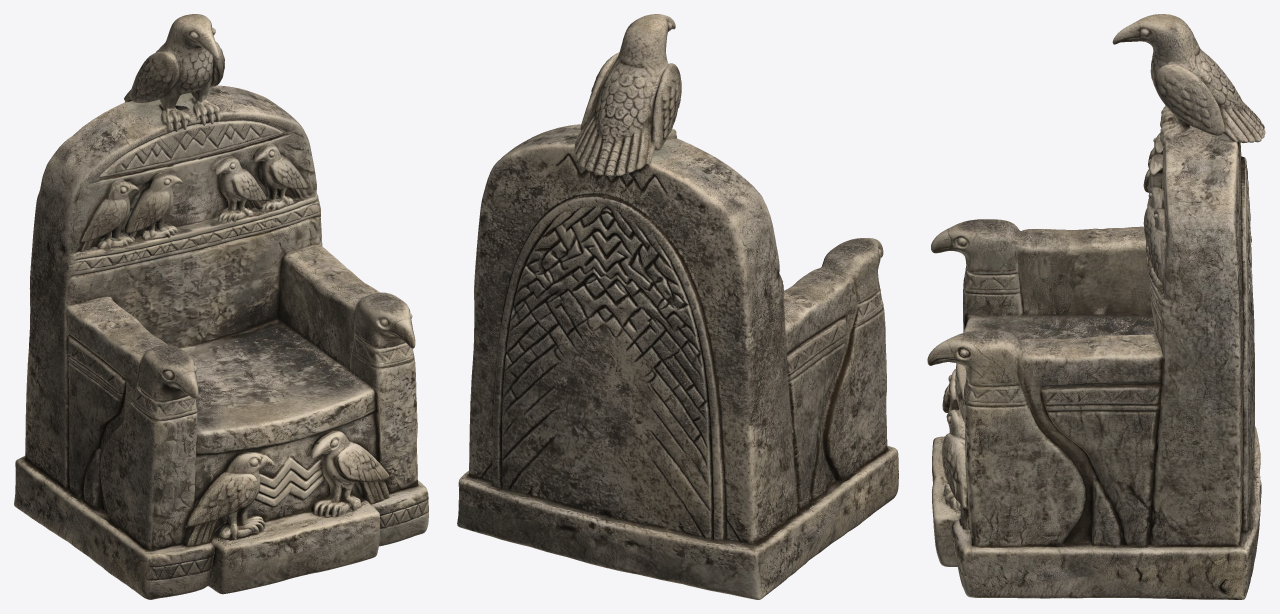
The model's file is throne.glb.
The picture shows the model from 3 angles, left to right: view 1: azimuth 30°, elevation 25°; view 2: azimuth 150°, elevation 25°; view 3: azimuth 270°, elevation 25°; orthographic projection. The views are drawn at different scales.
Visible parts, largest first — view 1: Object_5, Object_6, Object_9, Object_7, Object_10, Object_8; view 2: Object_8, Object_7, Object_6, Object_9, Object_10, Object_5; view 3: Object_6, Object_7, Object_9, Object_5, Object_8, Object_10.
Boxes of the visible parts, bbox=[...] form: Object_5: bbox=[111, 303, 428, 599]; Object_6: bbox=[49, 30, 428, 599]; Object_9: bbox=[29, 14, 348, 541]; Object_7: bbox=[15, 19, 325, 534]; Object_10: bbox=[54, 19, 321, 507]; Object_8: bbox=[14, 93, 322, 514]; Object_8: bbox=[457, 125, 792, 599]; Object_7: bbox=[457, 14, 821, 599]; Object_6: bbox=[505, 16, 898, 566]; Object_9: bbox=[481, 15, 824, 587]; Object_10: bbox=[534, 22, 826, 525]; Object_5: bbox=[753, 238, 898, 503]; Object_6: bbox=[948, 24, 1221, 598]; Object_7: bbox=[1081, 15, 1261, 599]; Object_9: bbox=[1089, 14, 1226, 599]; Object_5: bbox=[927, 219, 1040, 598]; Object_8: bbox=[1150, 95, 1265, 599]; Object_10: bbox=[1093, 21, 1164, 585].
Bounding box in the file's own units: 1.18 × 1.9 × 1.14.
1 material, 1 textured.
